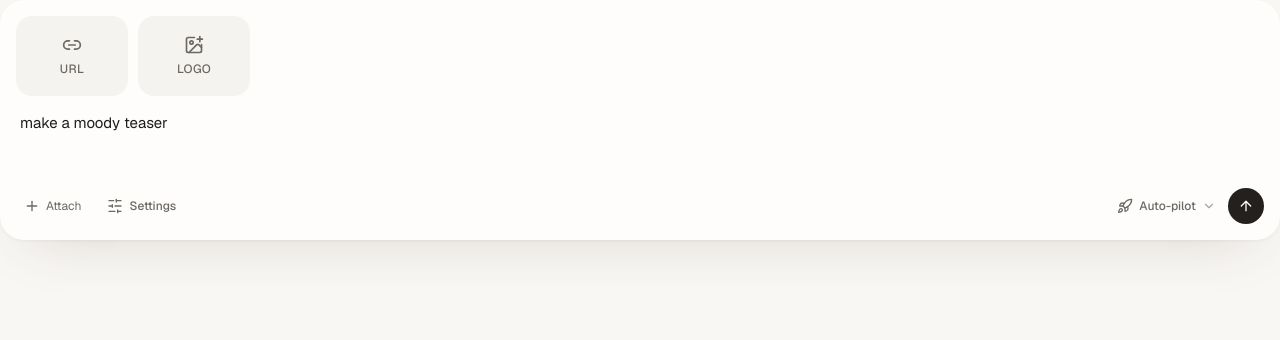
Test: <HomeComposer> › blocks generation and shows an error when the URL is invalid
This screenshot has width=1280, height=340.
Click the button "URL" at (72, 56), box top-left (16, 16), bottom-right (128, 96)
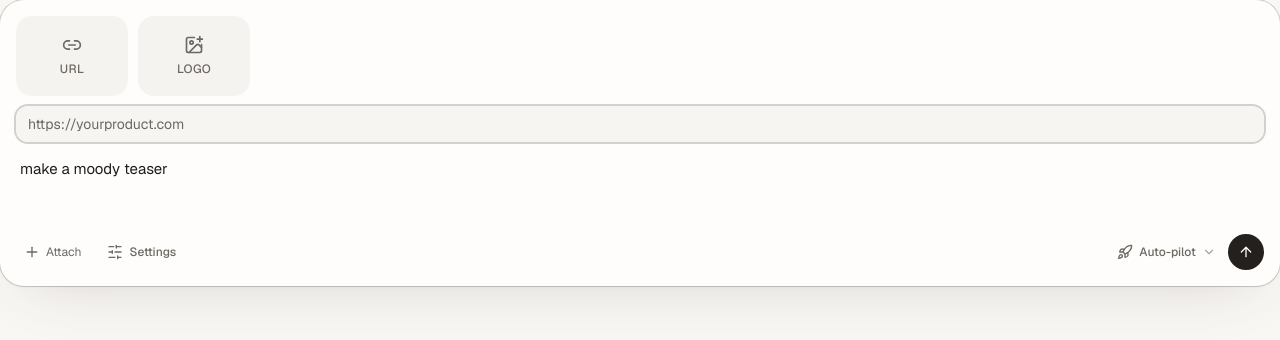
Type "asdf" into the field named "product url" at (640, 124), box top-left (16, 106), bottom-right (1264, 142)
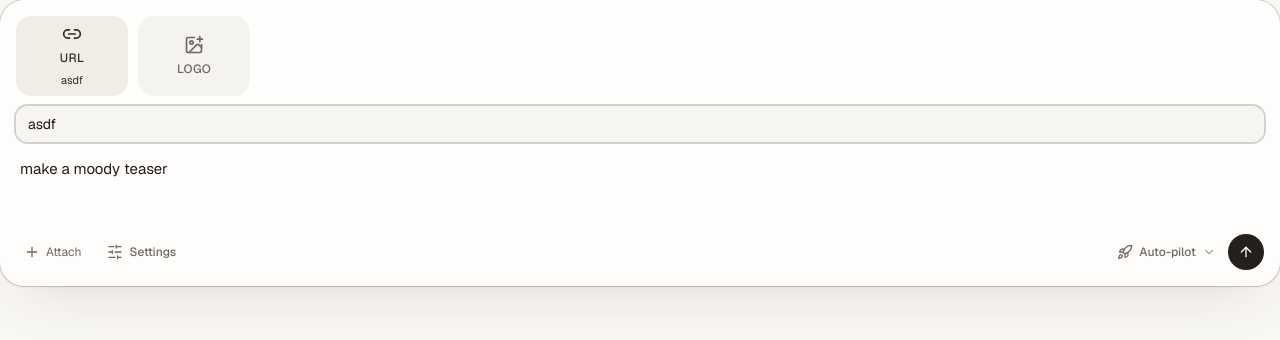
Click the button named "generate" at (1246, 252), box top-left (1228, 234), bottom-right (1264, 270)
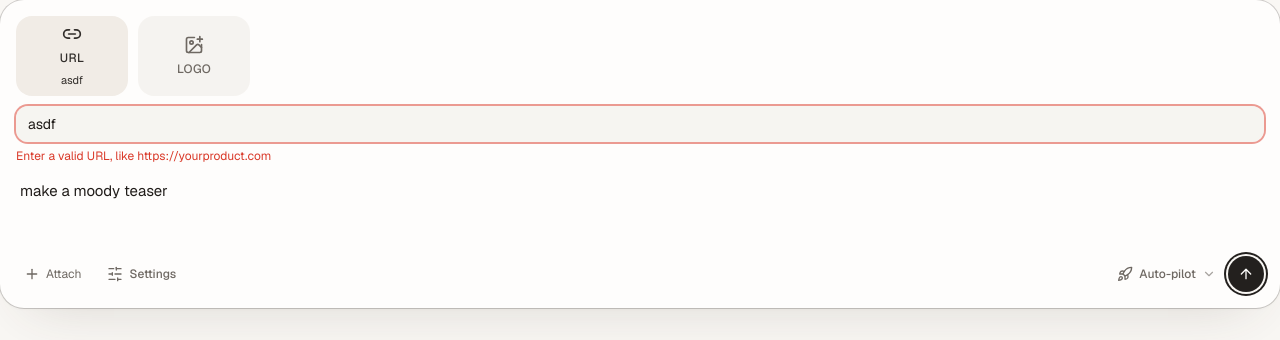
Check: the message shows "valid URL", box top-left (16, 148), bottom-right (271, 164)
